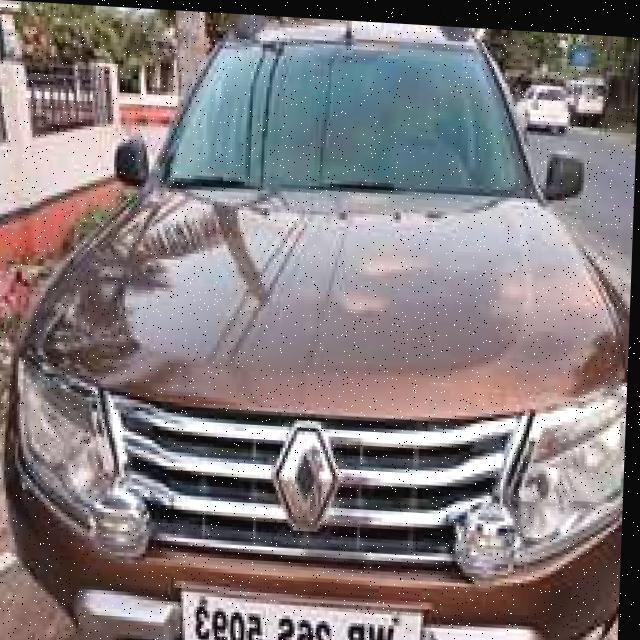plate: (184, 588, 432, 640)
